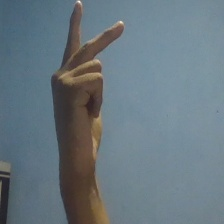K: (46, 1, 127, 179)
